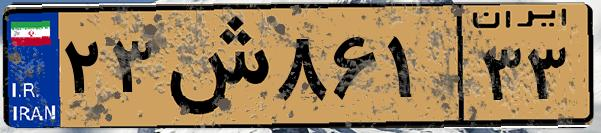1: (385, 28, 445, 110)
2: (57, 26, 110, 100)
3: (475, 38, 525, 113), (525, 38, 570, 115), (110, 28, 158, 98)
6: (330, 28, 385, 110)
8: (270, 28, 330, 110)
ش: (158, 12, 270, 120)
